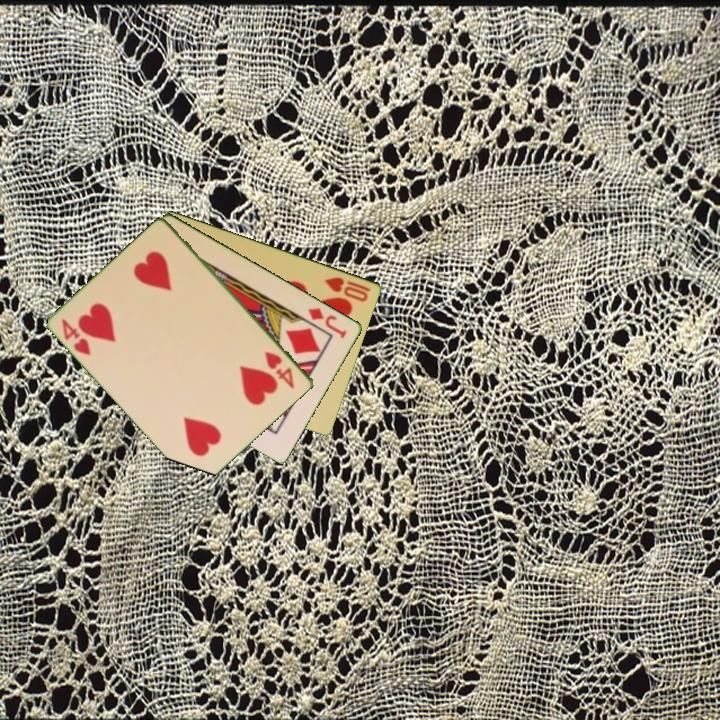10h: (321, 273, 374, 304)
4h: (261, 347, 298, 392), (58, 316, 94, 359)
Jd: (305, 304, 350, 341)
